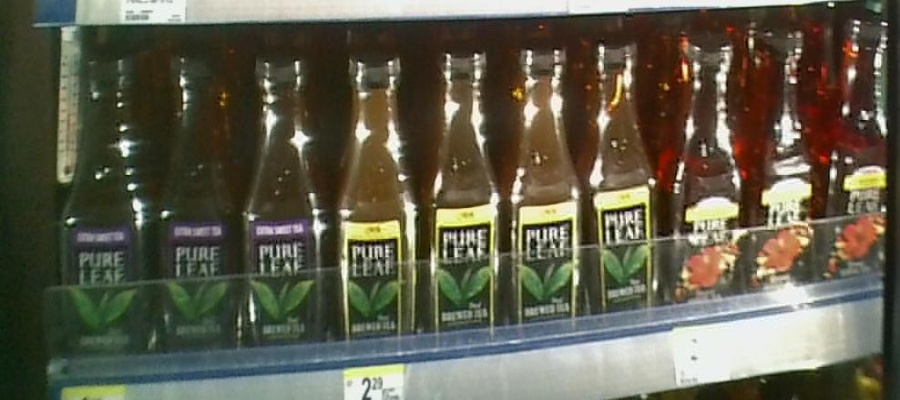bottle: (59, 55, 152, 373), (330, 51, 424, 344), (241, 54, 329, 354), (156, 48, 236, 370), (427, 47, 506, 353), (666, 33, 748, 317), (585, 25, 661, 330), (507, 39, 580, 339), (823, 13, 895, 289), (752, 23, 818, 301)
